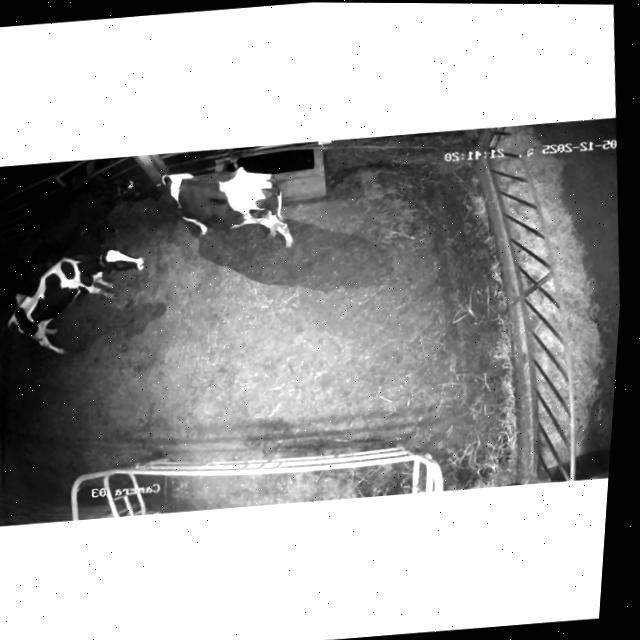stand: (17, 176, 161, 276), (8, 248, 144, 353), (158, 166, 293, 247)
